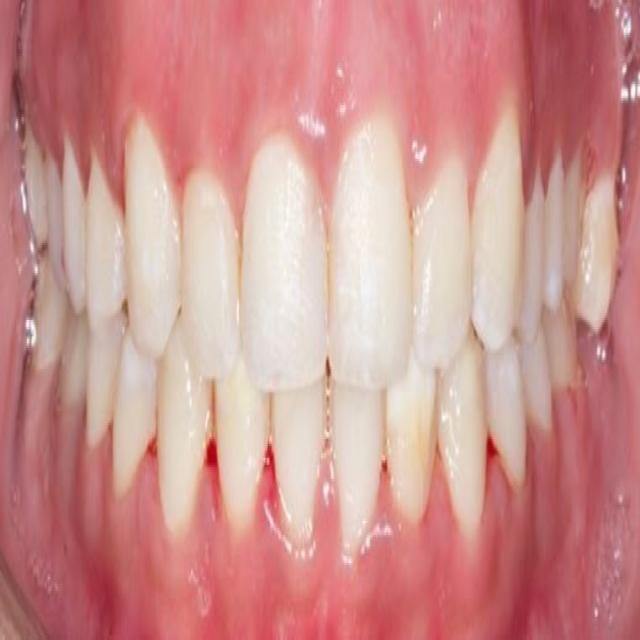1st Molar: (544, 299, 579, 395), (564, 147, 584, 312), (60, 310, 89, 411), (47, 157, 63, 276)
1st Premolar: (112, 332, 158, 498), (85, 156, 125, 325), (485, 346, 527, 488), (521, 164, 544, 338)
2nd Molar: (580, 175, 618, 331), (34, 255, 66, 367), (22, 126, 48, 243)
2nd Premolar: (88, 323, 123, 448), (63, 136, 86, 311), (543, 147, 565, 304), (521, 336, 553, 434)
Canine: (125, 112, 182, 362), (471, 107, 524, 353), (156, 331, 213, 540), (438, 336, 487, 544)
Central Incisor: (241, 133, 329, 395), (329, 114, 412, 390), (331, 386, 386, 572), (271, 383, 325, 561)
Lateral Incisor: (180, 168, 242, 378), (414, 159, 472, 369), (214, 362, 272, 544), (385, 360, 440, 524)
